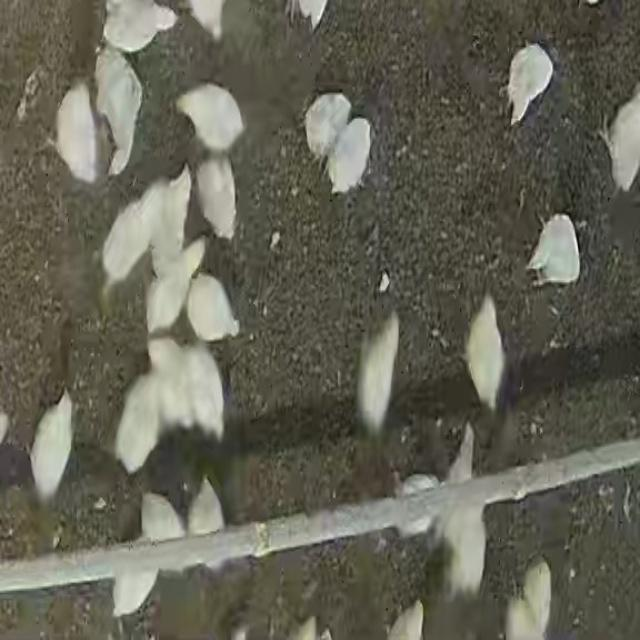chicken: (123, 492, 185, 620), (98, 180, 164, 294), (93, 51, 142, 176), (144, 237, 206, 332), (356, 312, 402, 440), (174, 81, 247, 157), (29, 388, 74, 509), (464, 293, 506, 422), (114, 370, 164, 478), (54, 82, 104, 188), (441, 493, 491, 596), (496, 43, 556, 128), (148, 337, 200, 435), (180, 341, 229, 444), (524, 212, 584, 293), (150, 172, 194, 268), (603, 82, 640, 192), (328, 119, 376, 200), (186, 272, 240, 344), (194, 154, 239, 240), (101, 1, 170, 54), (301, 93, 351, 163), (110, 562, 158, 618), (187, 473, 228, 536), (398, 473, 440, 533), (141, 490, 187, 544), (526, 556, 552, 629), (186, 0, 230, 42), (507, 596, 546, 640), (385, 602, 422, 640), (294, 1, 332, 34)
